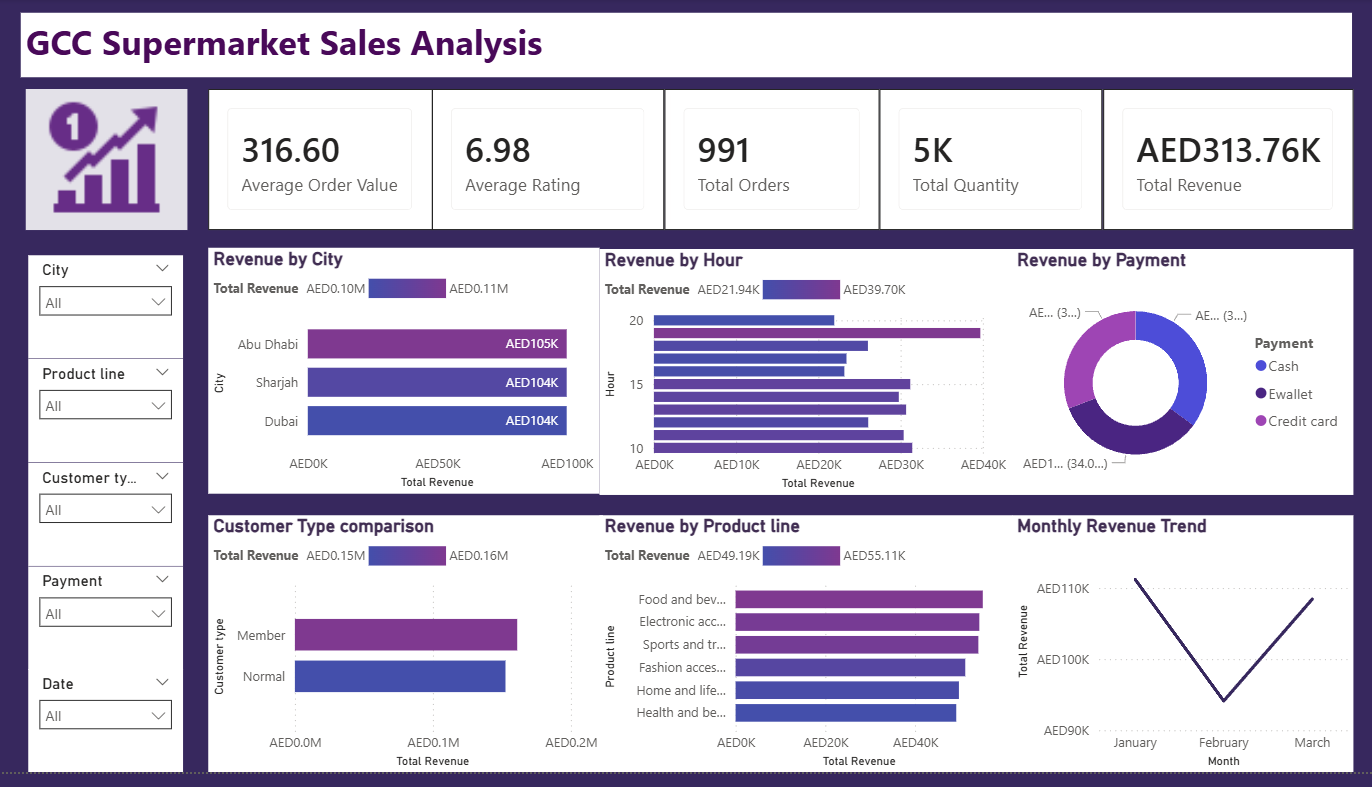

What the dashboard file says about the page in this screenshot:
{"tool":"powerbi","page":{"name":"Page 1","canvas":[1280,720],"ordinal":0},"visuals":[{"type":"cardVisual","fields":{"Data":["Calculated Table.Average Order Value"]},"box":[196.2,83.8,208.8,131.2],"z":0},{"type":"cardVisual","fields":{"Data":["Calculated Table.Average Rating"]},"box":[405,83.8,216.2,131.2],"z":1000},{"type":"cardVisual","fields":{"Data":["Calculated Table.Total Orders"]},"box":[621.2,83.8,200,131.2],"z":2000},{"type":"cardVisual","fields":{"Data":["Calculated Table.Total Quantity"]},"box":[821.2,83.8,207.5,131.2],"z":3000},{"type":"cardVisual","fields":{"Data":["Calculated Table.Total Revenue"]},"box":[1028.8,83.8,232.5,131.2],"z":4000},{"type":"clusteredBarChart","title":"Revenue by City","fields":{"Y":["Calculated Table.Total Revenue"],"Category":["supermarket_sales.City"]},"box":[196.2,231.9,363.6,229.2],"z":5000},{"type":"clusteredBarChart","title":"Revenue by Product line","fields":{"Y":["Calculated Table.Total Revenue"],"Category":["supermarket_sales.Product line"]},"box":[560,480,383.8,240],"z":6000},{"type":"donutChart","title":"Revenue by Payment","fields":{"Category":["supermarket_sales.Payment"],"Y":["Calculated Table.Total Revenue"]},"box":[943.8,232.5,317.5,228.8],"z":7000},{"type":"clusteredBarChart","title":"Revenue by Hour","fields":{"Y":["Calculated Table.Total Revenue"],"Category":["supermarket_sales.Hour"]},"box":[560,232.5,383.8,228.8],"z":8000},{"type":"lineChart","title":"Monthly Revenue Trend","fields":{"Y":["Calculated Table.Total Revenue"],"Category":["supermarket_sales.Date.Variation.Date Hierarchy.Month"]},"box":[943.8,480,317.5,240],"z":9000},{"type":"clusteredBarChart","title":"Customer Type comparison","fields":{"Y":["Calculated Table.Total Revenue"],"Category":["supermarket_sales.Customer type"]},"box":[196.2,480,367.5,240],"z":10000},{"type":"slicer","fields":{"Values":["supermarket_sales.City"]},"box":[28.8,238.8,143.8,96.2],"z":11000},{"type":"slicer","fields":{"Values":["supermarket_sales.Product line"]},"box":[28.8,335,143.8,96.2],"z":12000},{"type":"slicer","fields":{"Values":["supermarket_sales.Customer type"]},"box":[28.8,431.2,143.8,96.2],"z":13000},{"type":"slicer","fields":{"Values":["supermarket_sales.Payment"]},"box":[28.8,527.5,143.8,96.2],"z":14000},{"type":"slicer","fields":{"Values":["supermarket_sales.Date"]},"box":[28.8,623.8,143.8,96.2],"z":15000},{"type":"textbox","box":[22.5,12.5,1238.8,60],"z":16000},{"type":"image","box":[26.2,83.8,150,131.2],"z":17000}]}

Visuals, with their boxes in screenshot pixels (x1, y1, x2, y2), scaled from the page's 1280x720 canvas onto the 1372x787 screenshot:
cardVisual - Calculated Table.Average Order Value: x1=210 y1=92 x2=434 y2=235
cardVisual - Calculated Table.Average Rating: x1=434 y1=92 x2=666 y2=235
cardVisual - Calculated Table.Total Orders: x1=666 y1=92 x2=880 y2=235
cardVisual - Calculated Table.Total Quantity: x1=880 y1=92 x2=1103 y2=235
cardVisual - Calculated Table.Total Revenue: x1=1103 y1=92 x2=1352 y2=235
"Revenue by City" clusteredBarChart: x1=210 y1=253 x2=600 y2=504
"Revenue by Product line" clusteredBarChart: x1=600 y1=525 x2=1012 y2=786
"Revenue by Payment" donutChart: x1=1012 y1=254 x2=1352 y2=504
"Revenue by Hour" clusteredBarChart: x1=600 y1=254 x2=1012 y2=504
"Monthly Revenue Trend" lineChart: x1=1012 y1=525 x2=1352 y2=786
"Customer Type comparison" clusteredBarChart: x1=210 y1=525 x2=604 y2=786
slicer - supermarket_sales.City: x1=31 y1=261 x2=185 y2=366
slicer - supermarket_sales.Product line: x1=31 y1=366 x2=185 y2=471
slicer - supermarket_sales.Customer type: x1=31 y1=471 x2=185 y2=576
slicer - supermarket_sales.Payment: x1=31 y1=577 x2=185 y2=682
slicer - supermarket_sales.Date: x1=31 y1=682 x2=185 y2=786
textbox: x1=24 y1=14 x2=1352 y2=79
image: x1=28 y1=92 x2=189 y2=235
